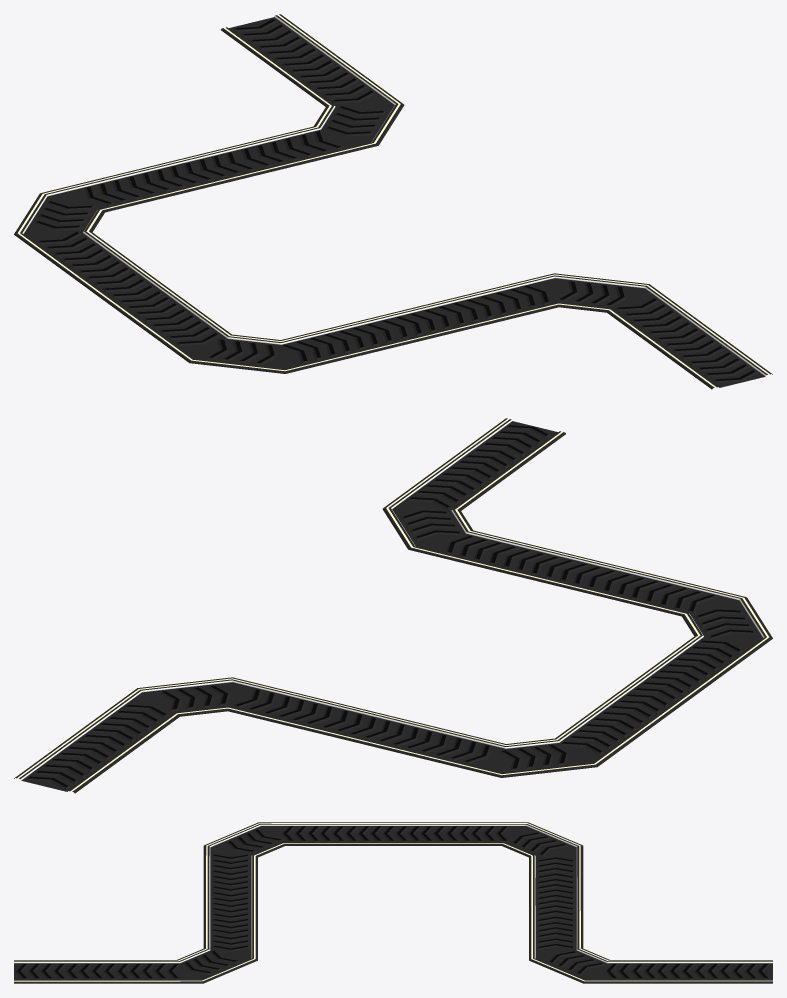
File: PH_Treadmill.fbx
3 views of the same model, one above another, from view 1: azimuth 30°, elevation 25°; view 2: azimuth 150°, elevation 25°; view 3: azimuth 270°, elevation 25° (orthographic). The views are drawn at different scales.
Parts seen in each view (by area): view 1: Plane.003; view 2: Plane.003; view 3: Plane.003.
Part boxes in pixels (<box>): Plane.003: <box>14,14,772,389</box>; Plane.003: <box>14,418,772,793</box>; Plane.003: <box>14,822,772,983</box>.
Bounding box in the file's own units: 16.82 × 0.0511 × 33.64.
